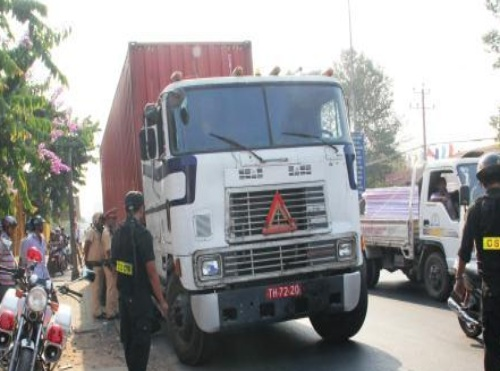plate: (263, 283, 301, 302)
